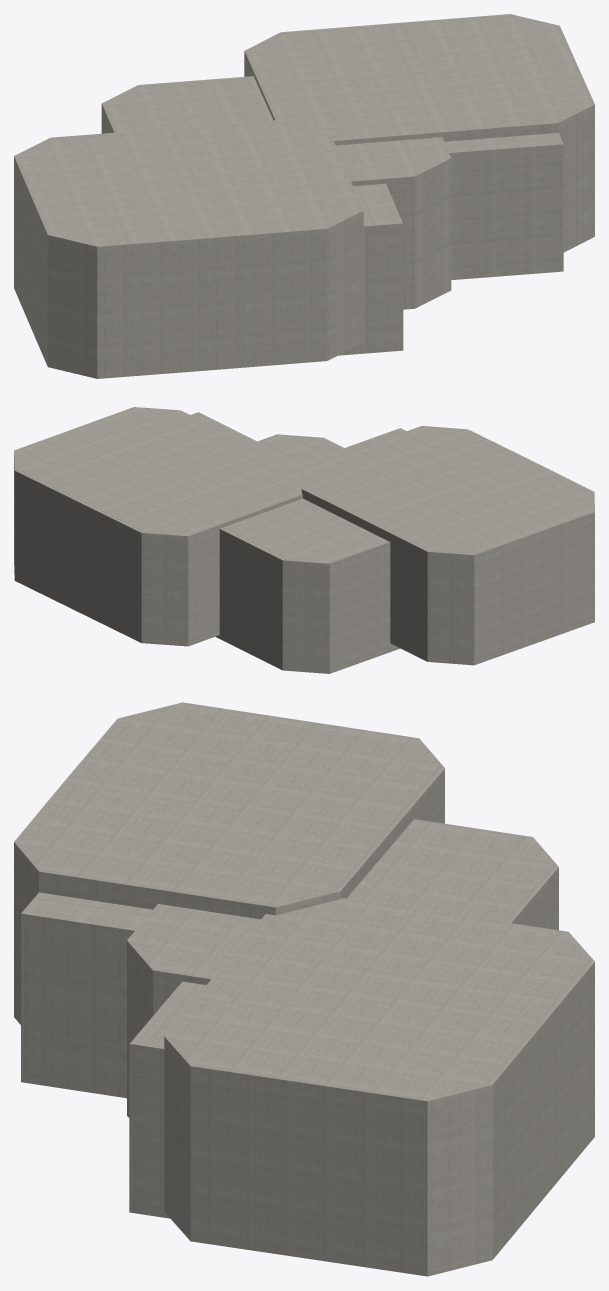
The model's file is kd_connection_world-inner_surface_3_0.glb.
The picture shows the model from 3 angles, top to bottom: view 1: azimuth 30°, elevation 25°; view 2: azimuth 150°, elevation 25°; view 3: azimuth 270°, elevation 25°; orthographic projection. The views are drawn at different scales.
Parts seen in each view (by area): view 1: kd_connection_world-inner_surface_3_0; view 2: kd_connection_world-inner_surface_3_0; view 3: kd_connection_world-inner_surface_3_0.
Boxes of the visible parts, bbox=[...] form: kd_connection_world-inner_surface_3_0: bbox=[14, 14, 594, 378]; kd_connection_world-inner_surface_3_0: bbox=[14, 407, 594, 673]; kd_connection_world-inner_surface_3_0: bbox=[14, 702, 594, 1276].
Size of the model in its own units: 239 by 54.07 by 150.
Materials: 1 (1 with a texture image).
